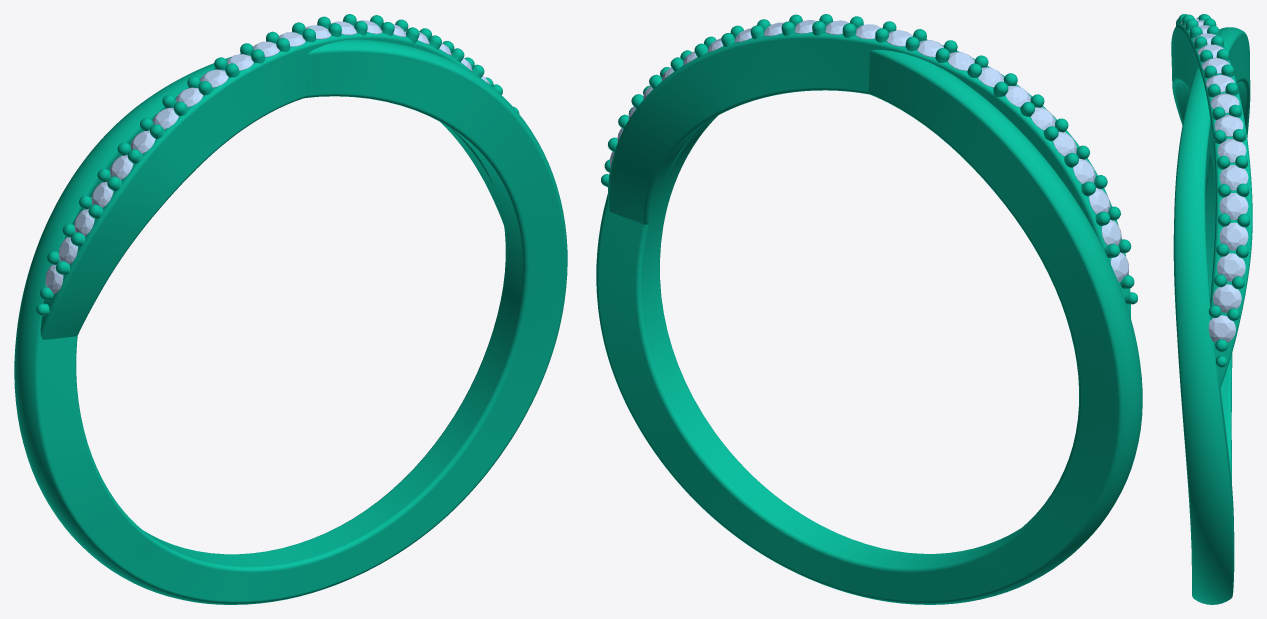
3 renders of one model, left to right at view 1: azimuth 30°, elevation 25°; view 2: azimuth 150°, elevation 25°; view 3: azimuth 270°, elevation 25°, orthographic. The views are drawn at different scales.
Parts seen in each view (by area): view 1: eternity diamond ring(render).3dm; view 2: eternity diamond ring(render).3dm; view 3: eternity diamond ring(render).3dm, Diamond_Round (×12), Prong On Surface (×22).
Boxes of the visible parts, bbox=[...] form: eternity diamond ring(render).3dm: bbox=[14, 32, 567, 604]; eternity diamond ring(render).3dm: bbox=[596, 24, 1142, 604]; eternity diamond ring(render).3dm: bbox=[1171, 24, 1252, 604]; Diamond_Round (×12): bbox=[1197, 44, 1248, 342]; Prong On Surface (×22): bbox=[1194, 36, 1249, 351].
Size of the model in its own units: 2.81 by 2.82 by 0.3916.
